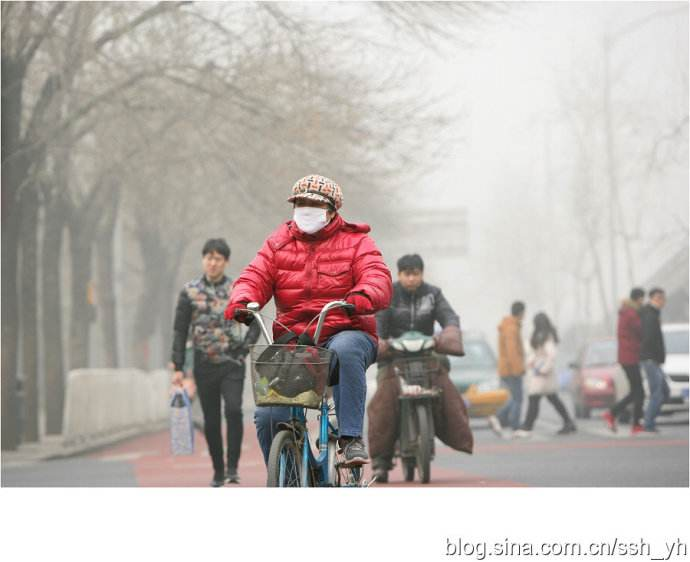person: (221, 175, 389, 475), (367, 254, 473, 483), (167, 237, 258, 487), (519, 312, 580, 437), (601, 287, 653, 433), (487, 300, 533, 438), (637, 288, 670, 433)
